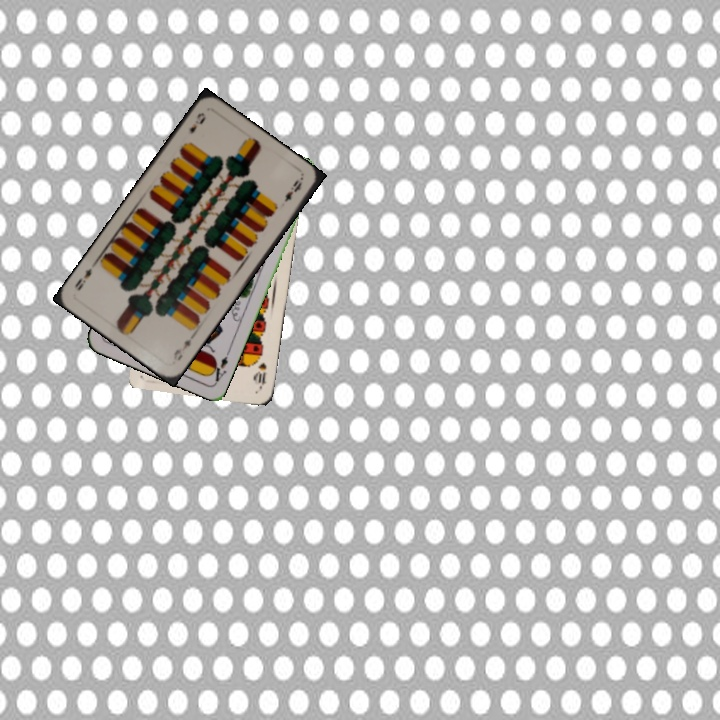E9: (169, 330, 197, 364), (185, 108, 208, 137)
EA: (206, 346, 233, 384)
S10: (252, 359, 269, 391)
